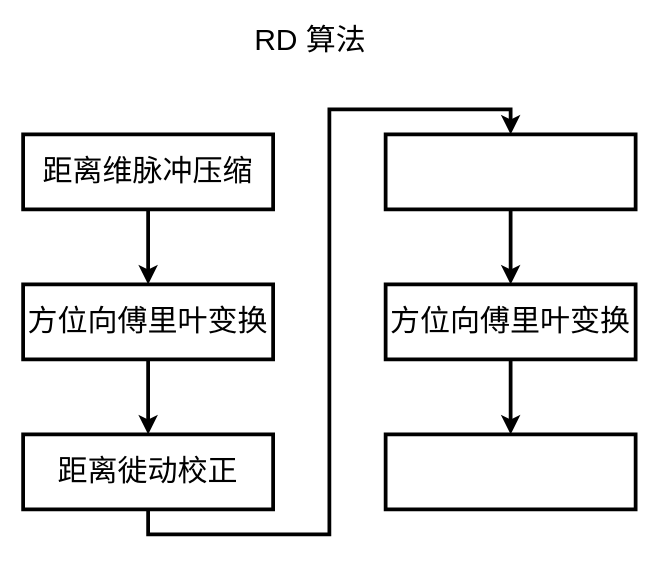
This 659x568 diagram has some shape labels left out. The shapes that lost their labels are listed below. From the top down, each one's box as (x1, y1, x2, y2) in pixels, then its label:
(383, 132, 637, 211): 方位向脉冲压缩
(383, 432, 637, 511): 成像数据
